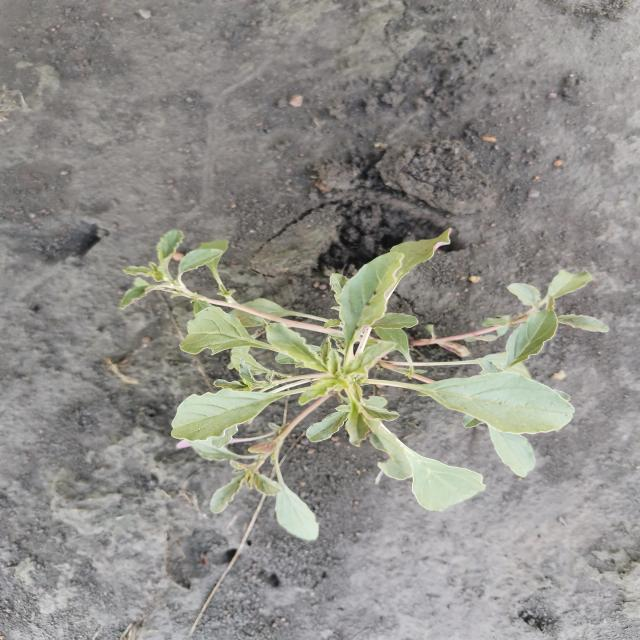Waterhemp: (116, 225, 613, 543)
